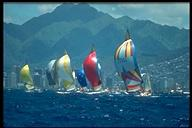mountain: (5, 4, 189, 38)
sailboat: (113, 25, 153, 97), (81, 43, 109, 93), (54, 49, 81, 95), (19, 63, 39, 94), (45, 58, 59, 91), (73, 67, 89, 93)
sky: (134, 6, 188, 18)
water: (5, 98, 188, 126)
